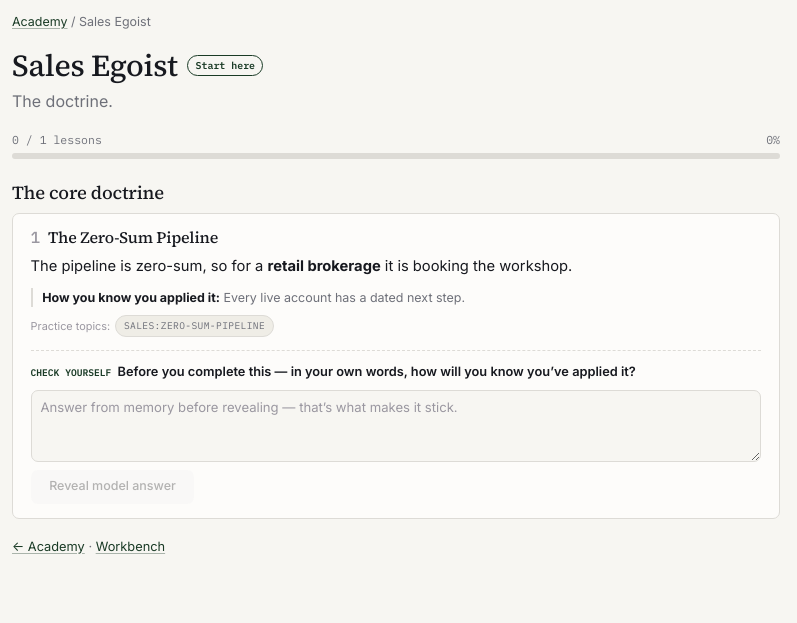
Scenario: Academy reader (GRS-0135) › gates completion behind active recall, then completes through the API (GRS-0139)
Check: the button "Reveal model answer" is disabled, box left=31, top=470, right=194, bottom=504
Note: Attempt recall → reveal the model answer → then complete.
Replace the text in the text box named "Recall answer for" with "the pipeline is zero-sum": {"x": 396, "y": 426} left=31, top=390, right=761, bottom=462
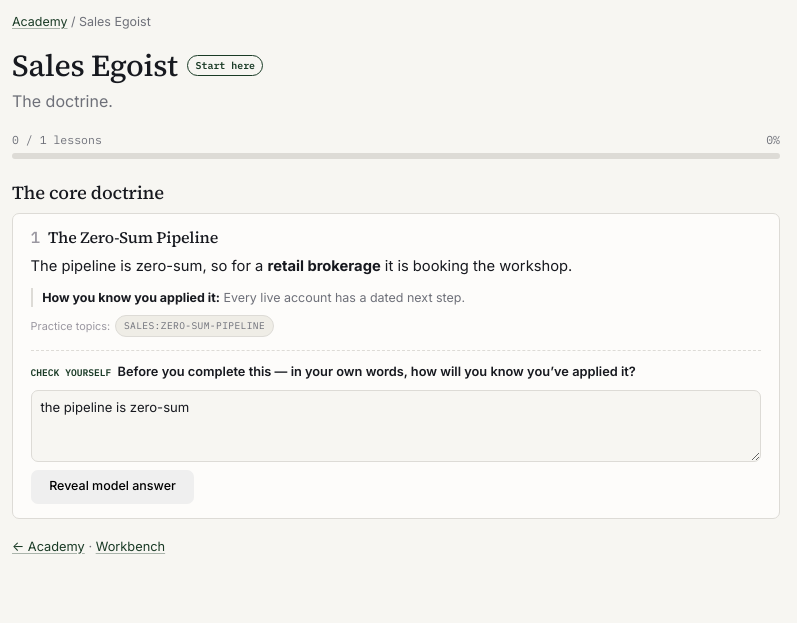
Click the button "Reveal model answer": {"x": 112, "y": 487} left=31, top=470, right=194, bottom=504
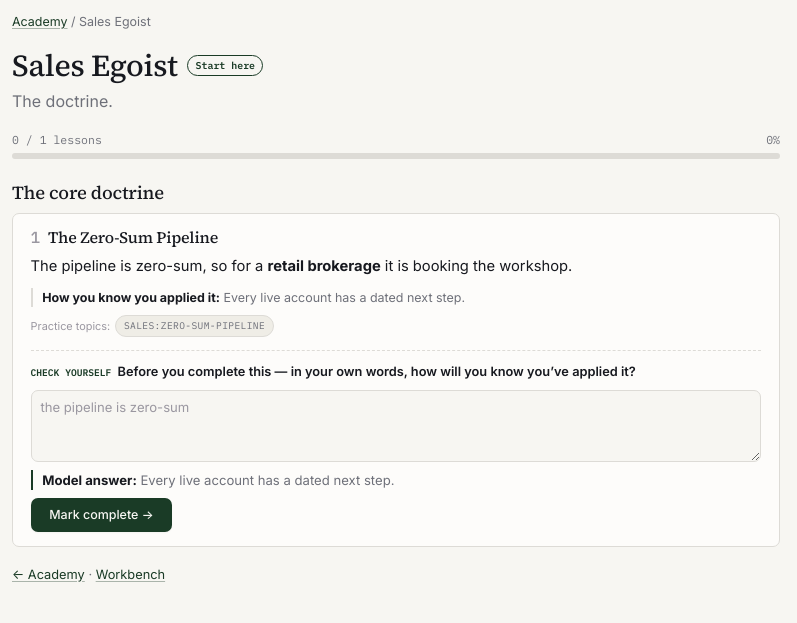
Click the button "Mark complete →": {"x": 101, "y": 515} left=31, top=498, right=172, bottom=532
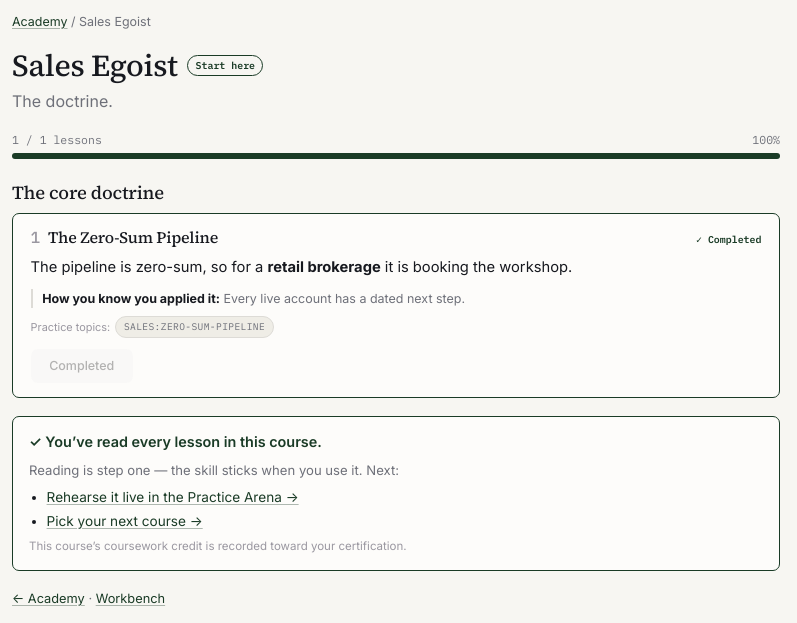
Check: the button "Completed" is shown, box left=31, top=349, right=133, bottom=383
